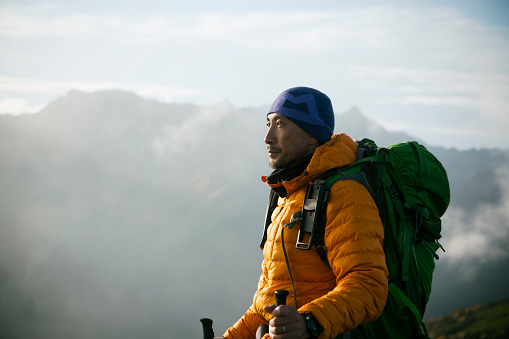em pe: (222, 74, 435, 339)
